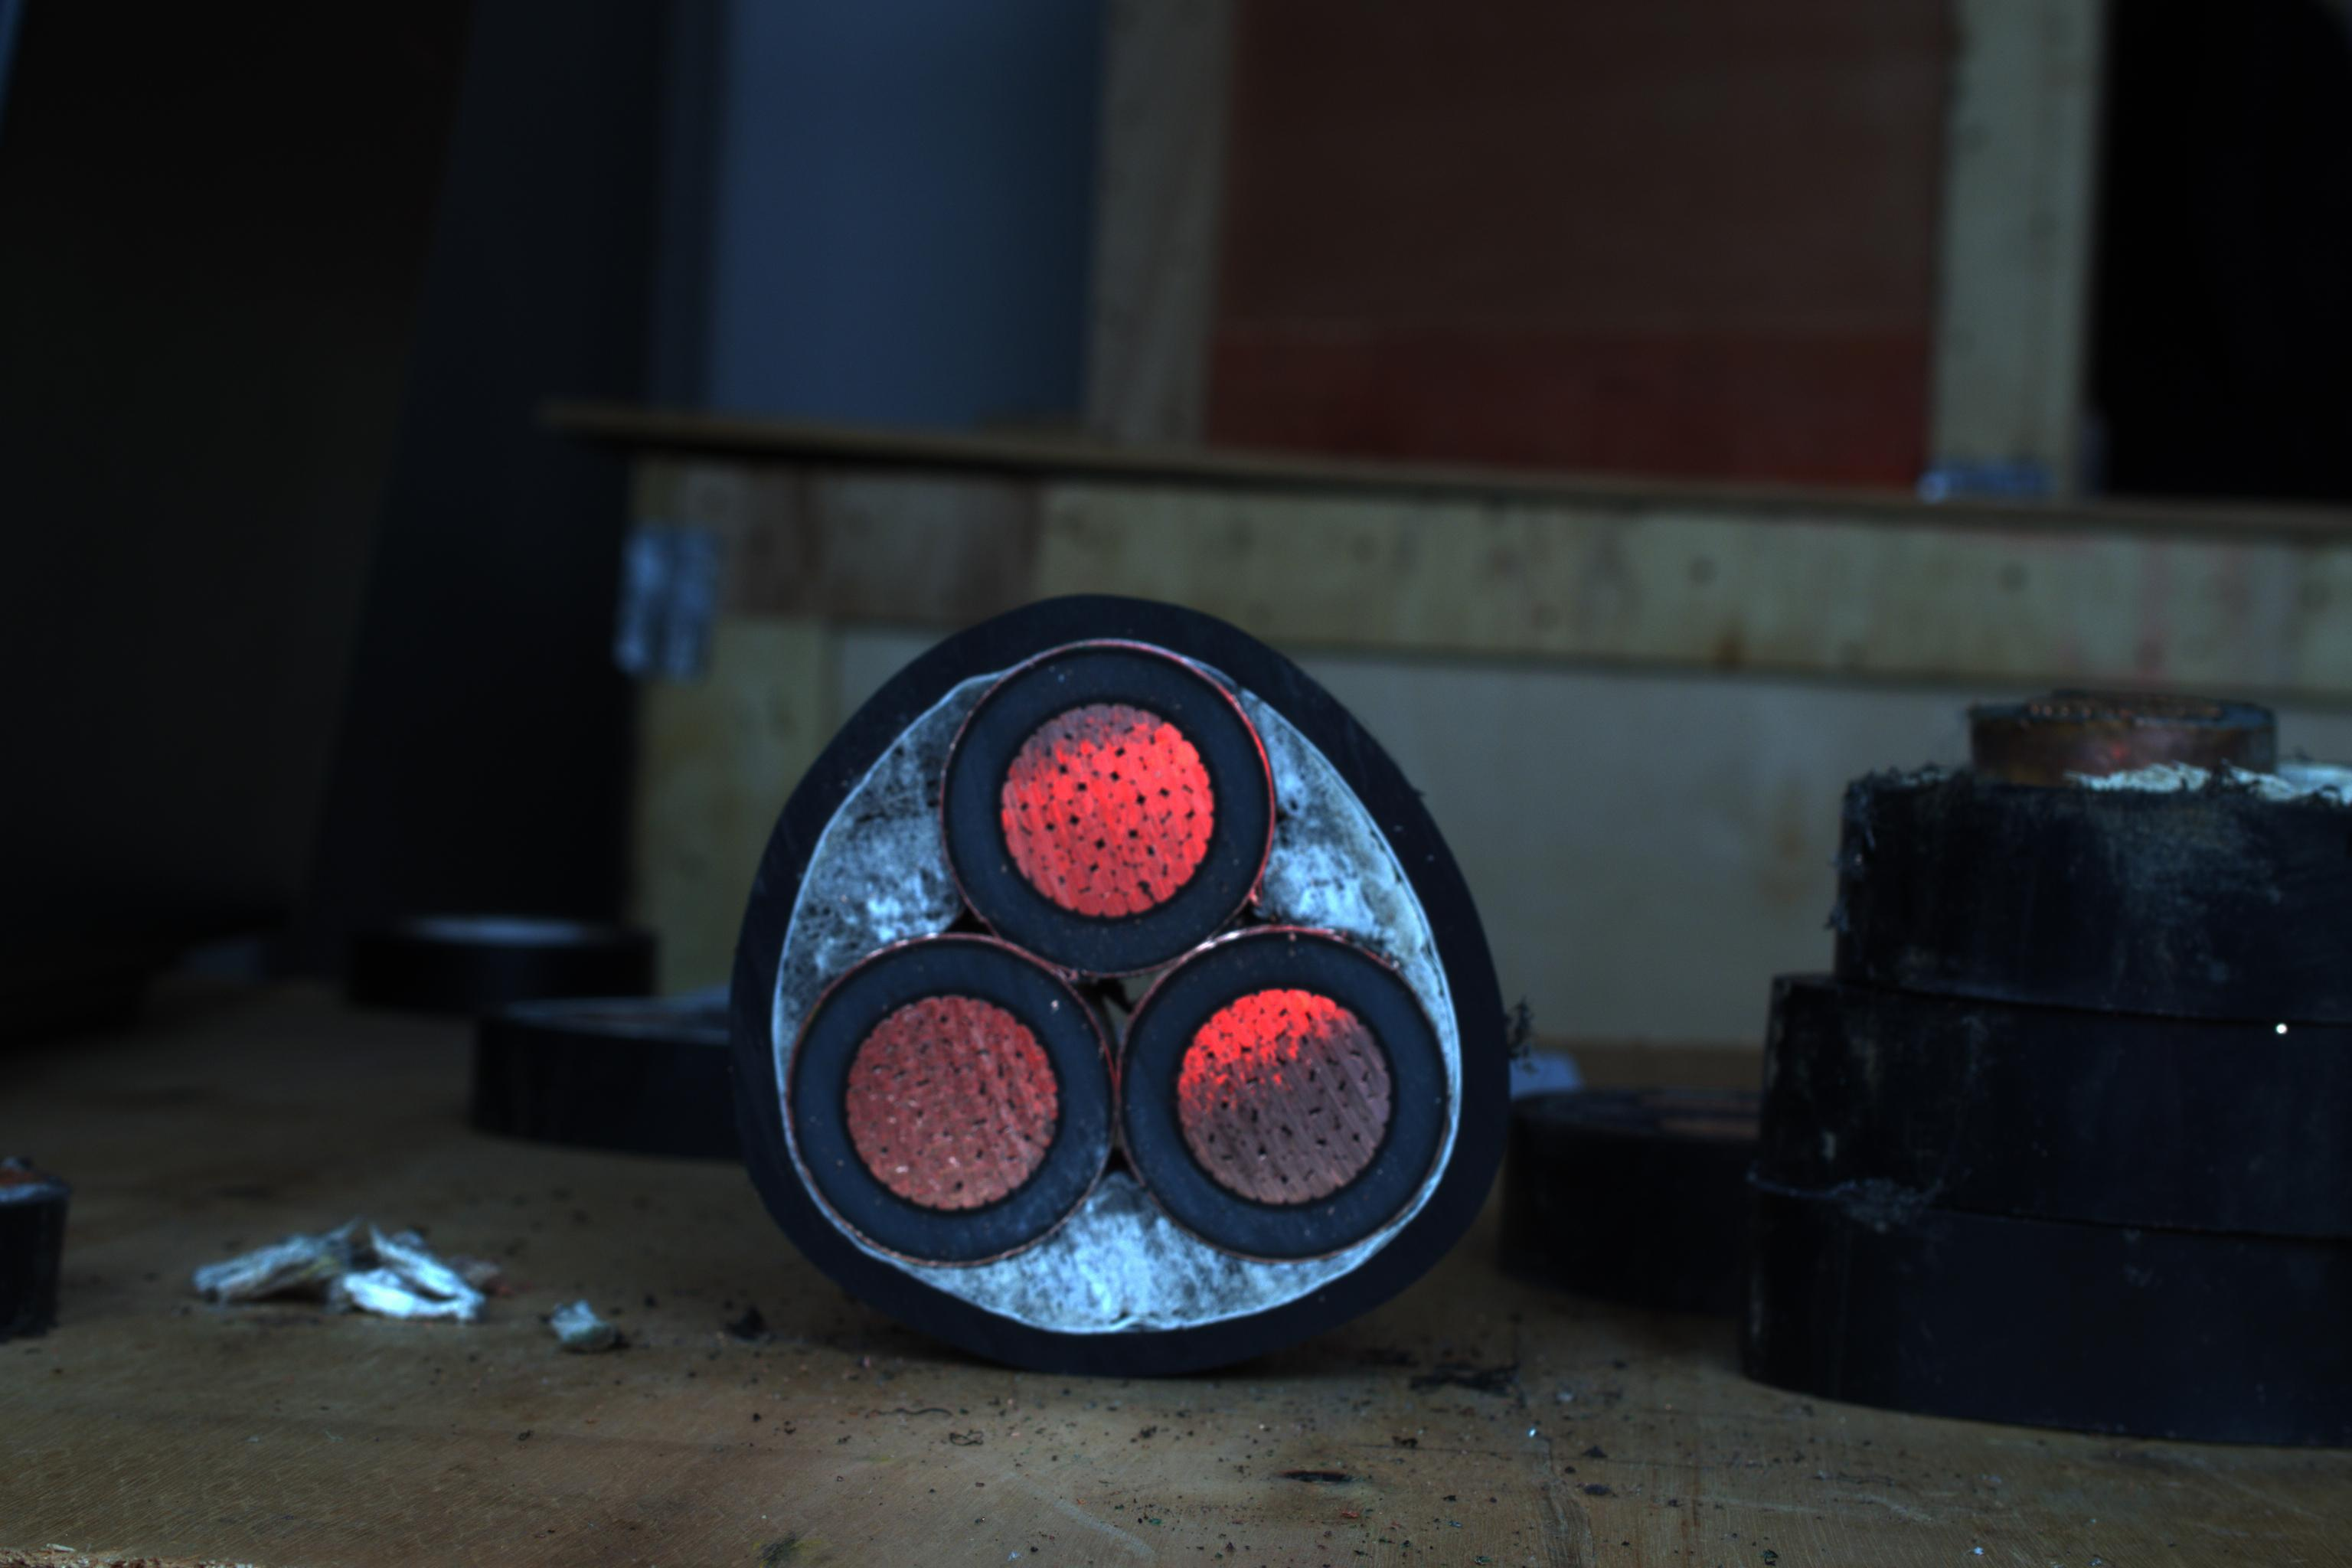ZA_YJV_8.7_10kV_3x400: (772, 625, 1487, 1326)
